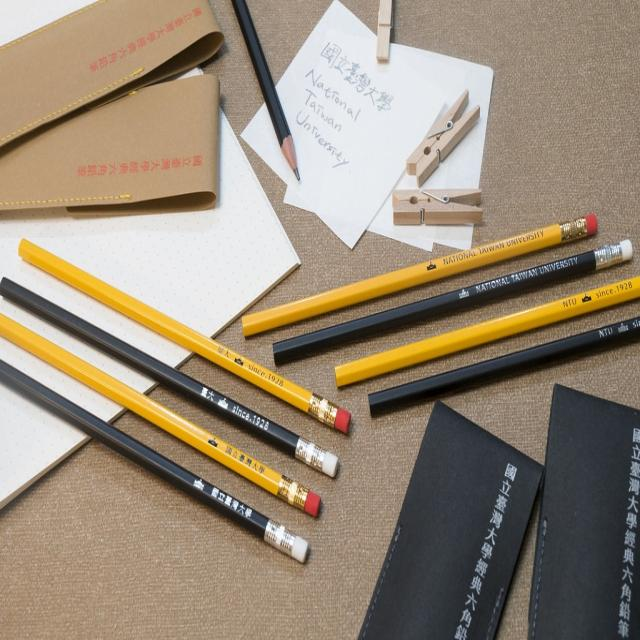pencil: (2, 266, 346, 492), (11, 230, 361, 452), (0, 313, 327, 528), (0, 355, 316, 576), (263, 228, 639, 376), (236, 207, 609, 348), (327, 266, 639, 396), (362, 312, 638, 434), (227, 0, 311, 195)
